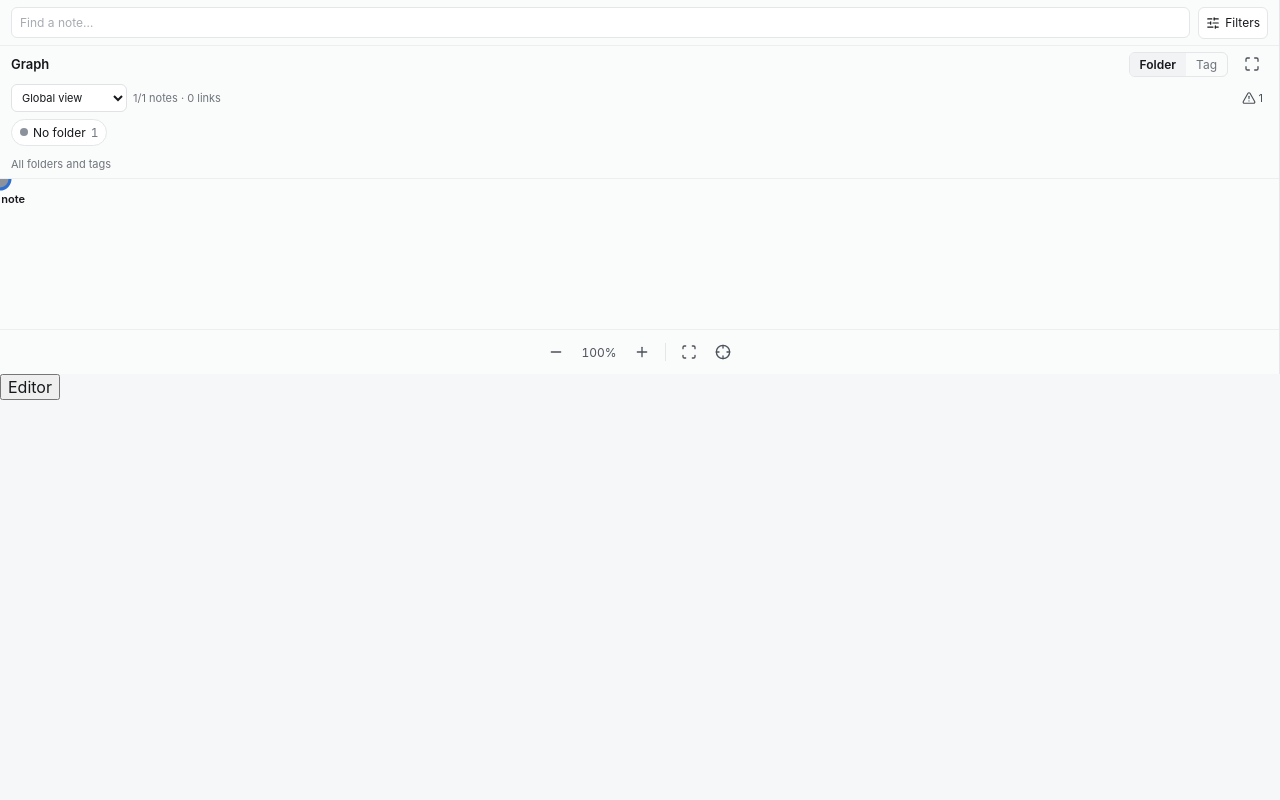
Scenario: Reliable graph interactions › removes a linked node without retaining obsolete simulation links
The width and height of the screenshot is (1280, 800).
Later steps or results of the test are not shown.
Click the button "1": point(1252, 98) [1236,86,1268,110]
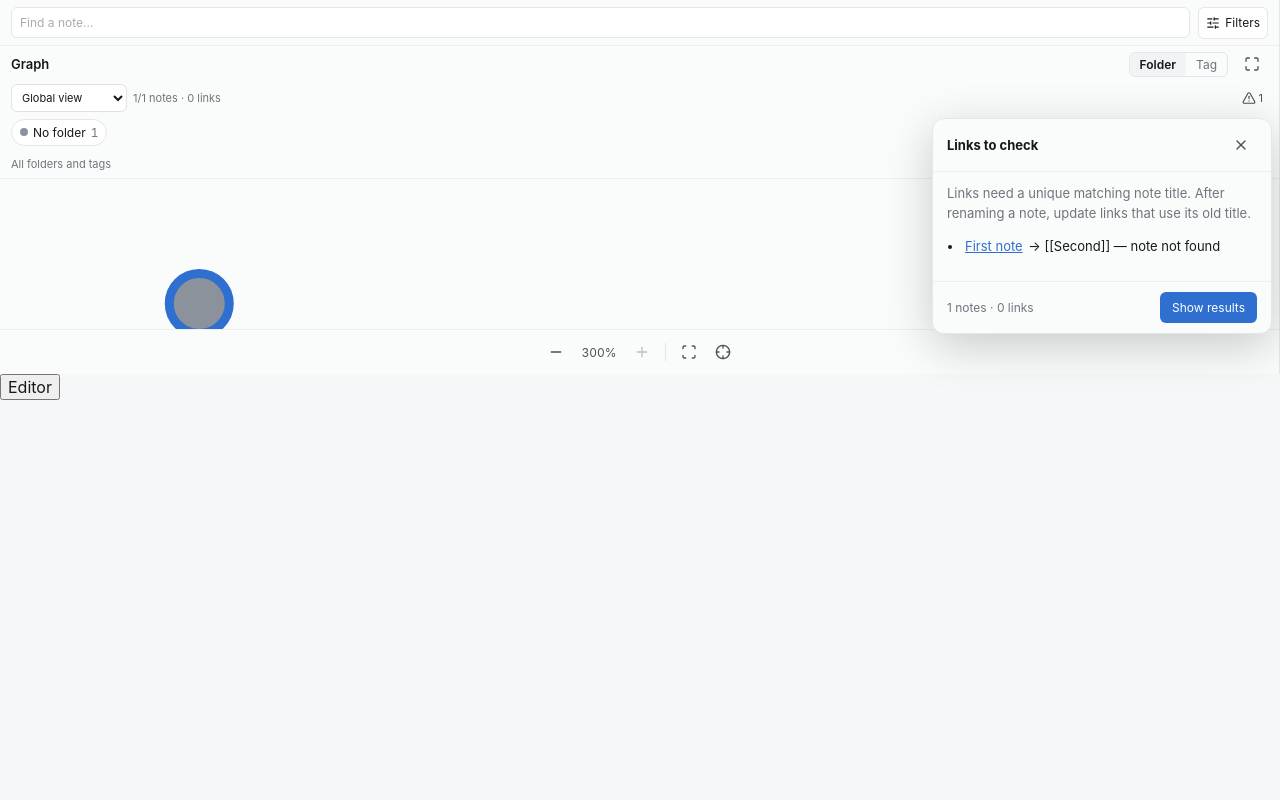
Expected: the element with class "graph-link-issues" shows "note not found", [1025,238,1220,254]
